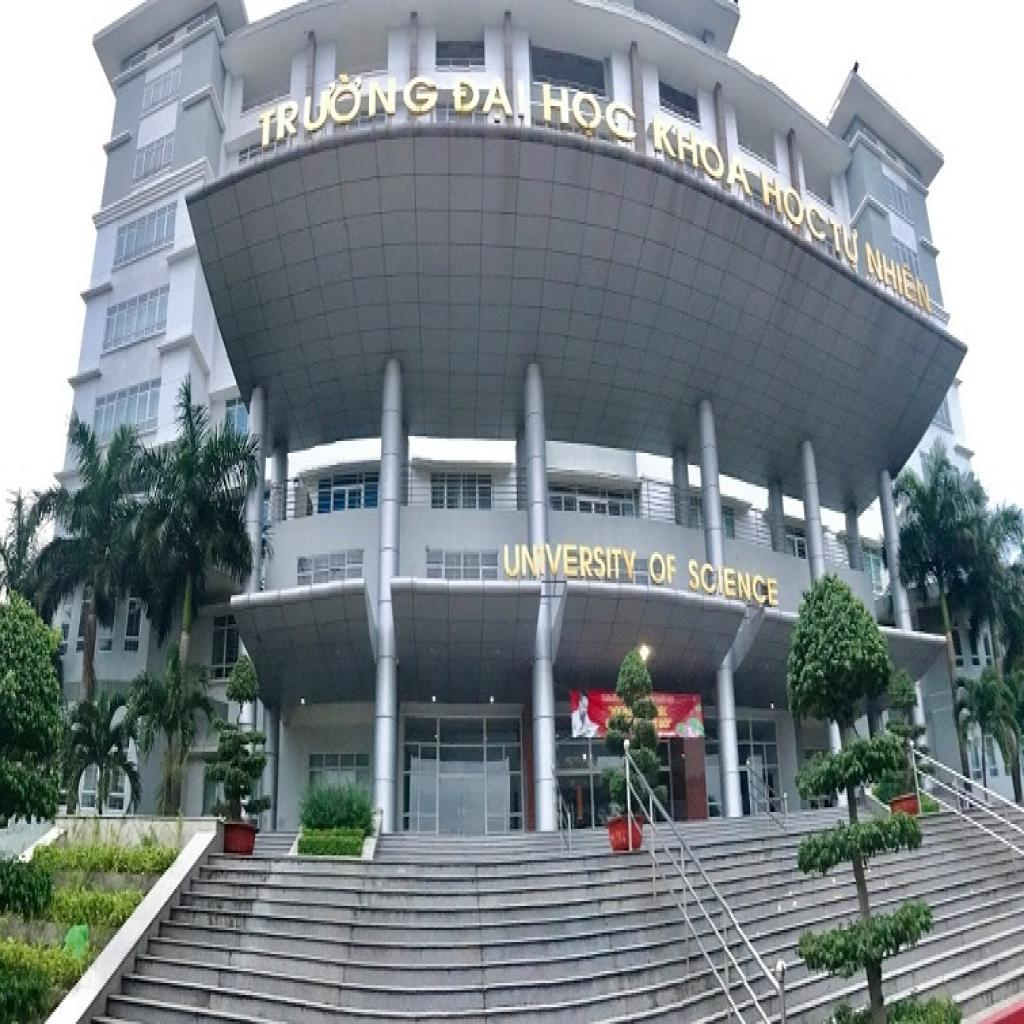text: (258, 58, 444, 159), (648, 104, 757, 207), (537, 77, 640, 159), (500, 537, 642, 588), (682, 549, 786, 617), (862, 234, 936, 328), (757, 157, 829, 253), (448, 67, 530, 135), (827, 207, 863, 282), (646, 544, 680, 590)
